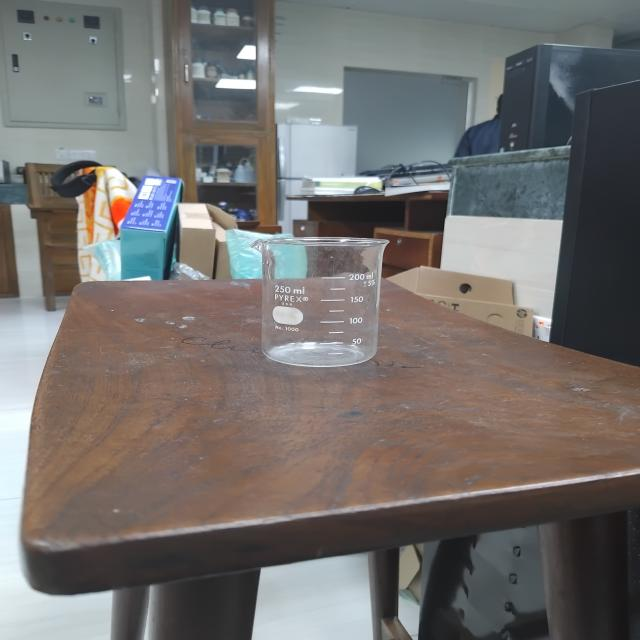Beaker: (209, 200, 425, 379)
